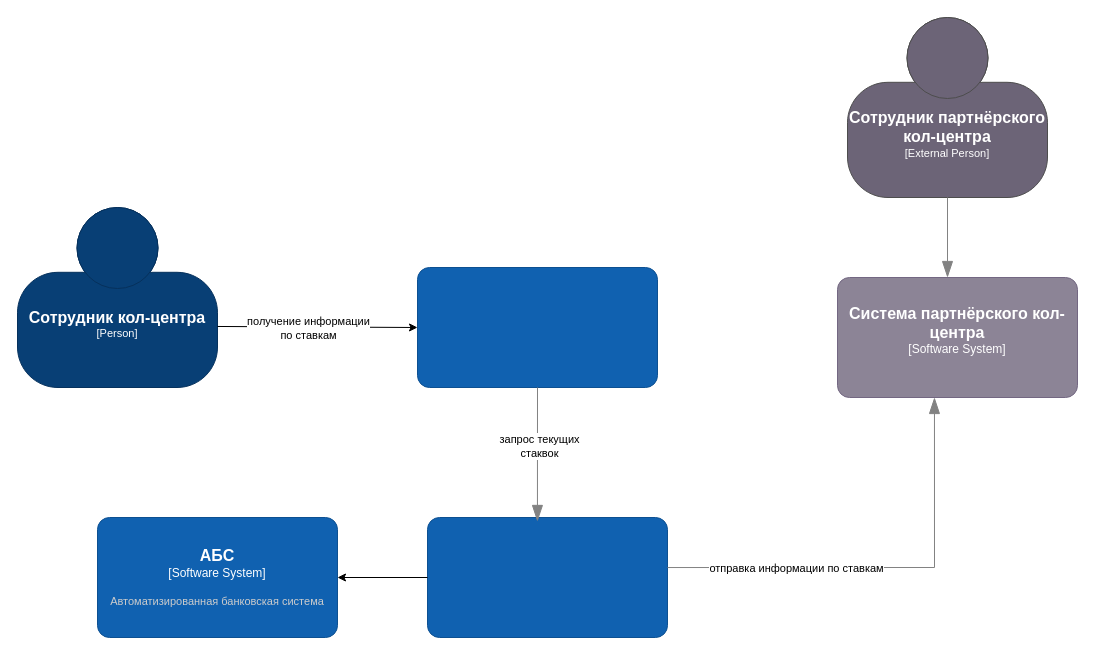
Image size: 1095x655. Some labels were removed from this diagram. Here are the shapes that lost their labels. From the top down, the centre of each, then its label:
pixel 537 327: Система кол-центра [Software System]
pixel 547 577: Система работы с депозитами [Software System]
